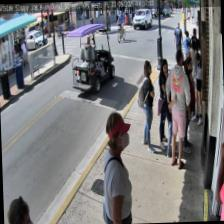person: (99, 111, 134, 224), (163, 48, 192, 170), (139, 60, 156, 152), (155, 57, 172, 148), (180, 56, 196, 152)
